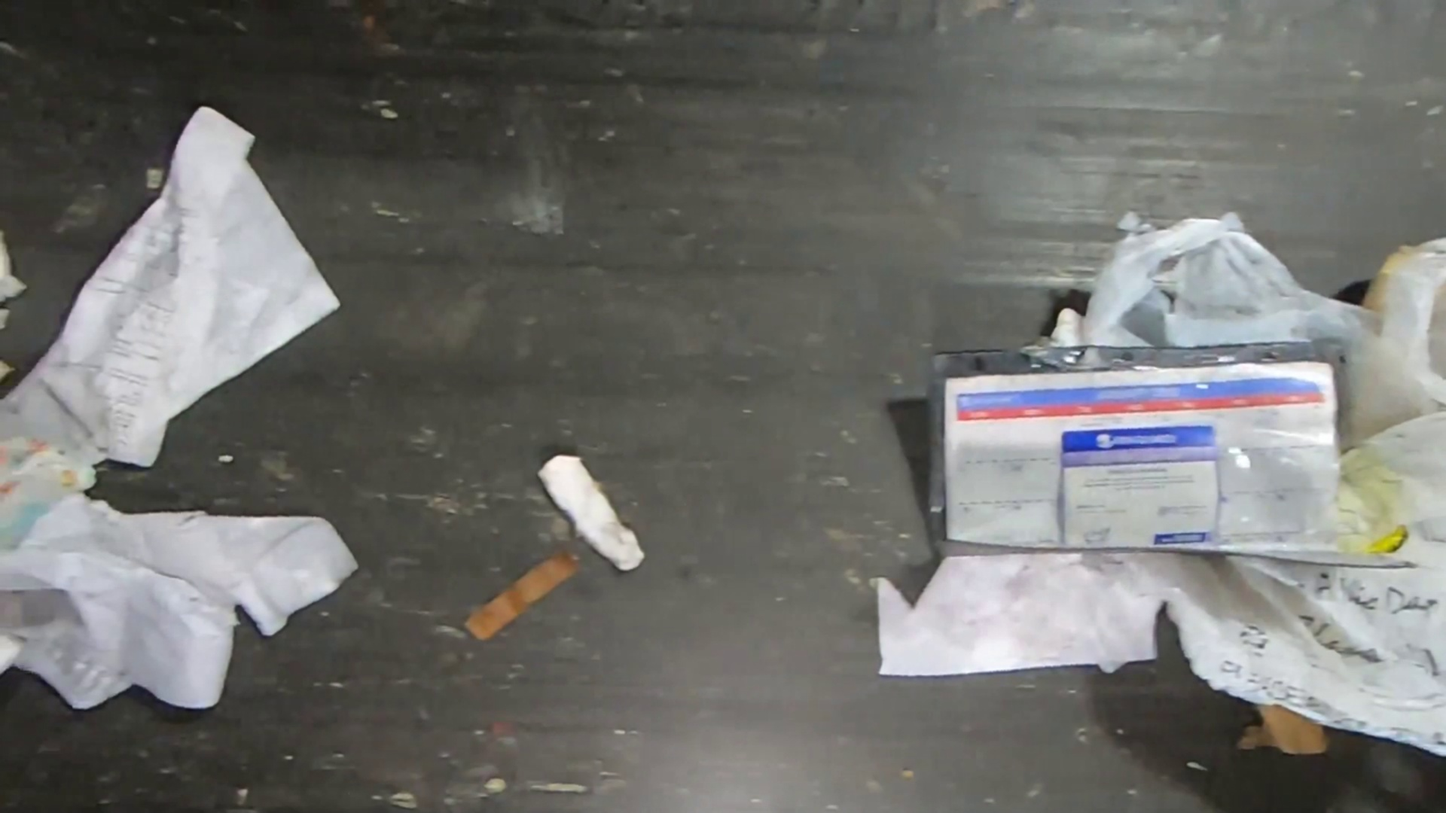plastic: (1088, 211, 1446, 805), (926, 345, 1347, 563)
